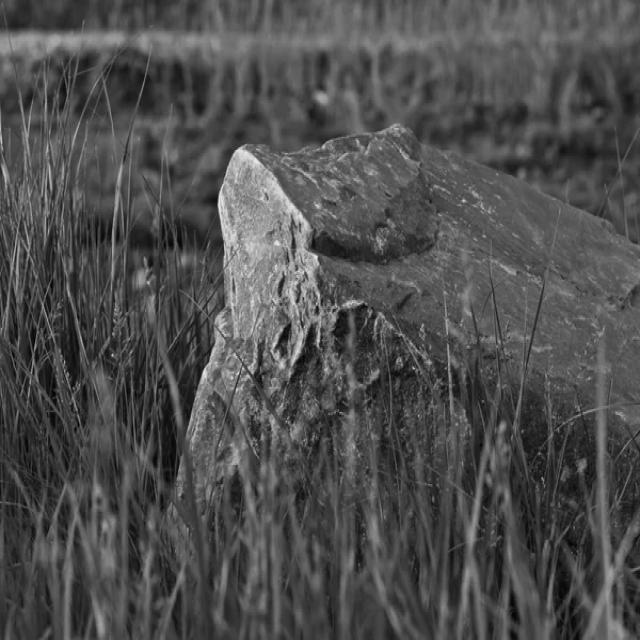Stone: (187, 126, 640, 503)
